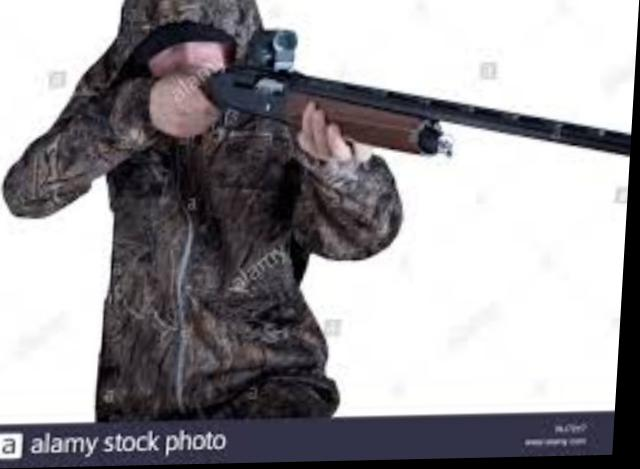other: (0, 0, 415, 421)
